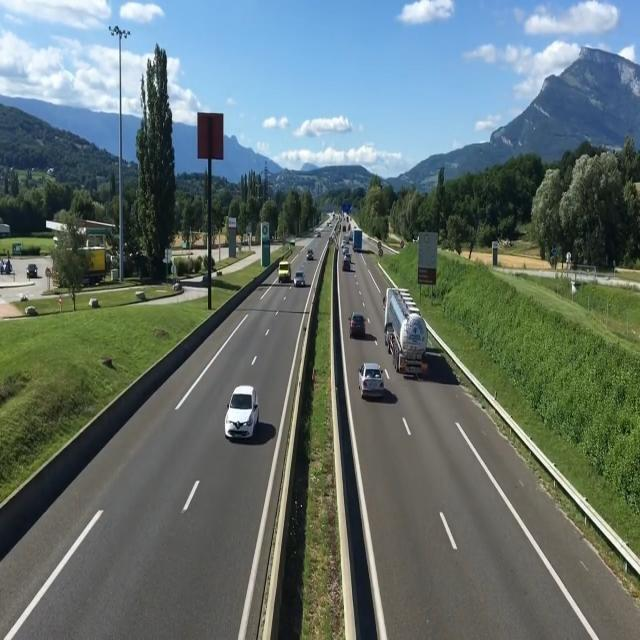Car: (222, 385, 259, 439), (358, 364, 387, 396), (348, 312, 366, 338), (294, 271, 305, 286), (306, 249, 314, 259)
Truck: (385, 286, 428, 376), (277, 260, 292, 284), (352, 228, 364, 254)
